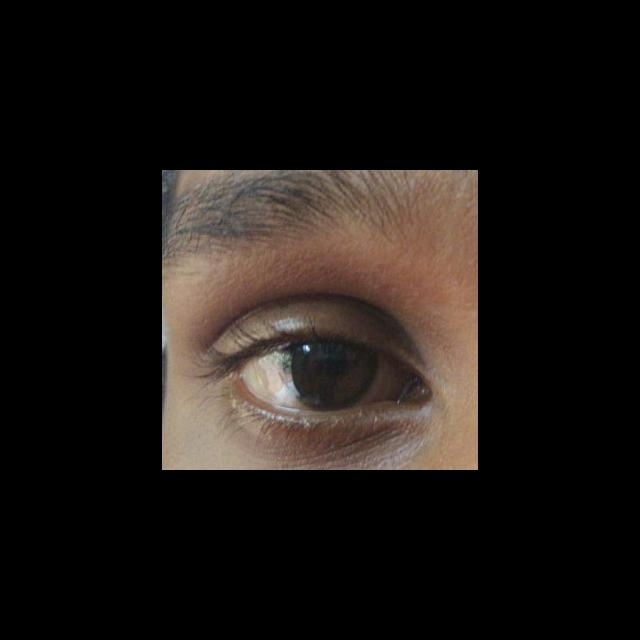eye: (238, 337, 411, 412)
iris: (291, 341, 380, 408)
